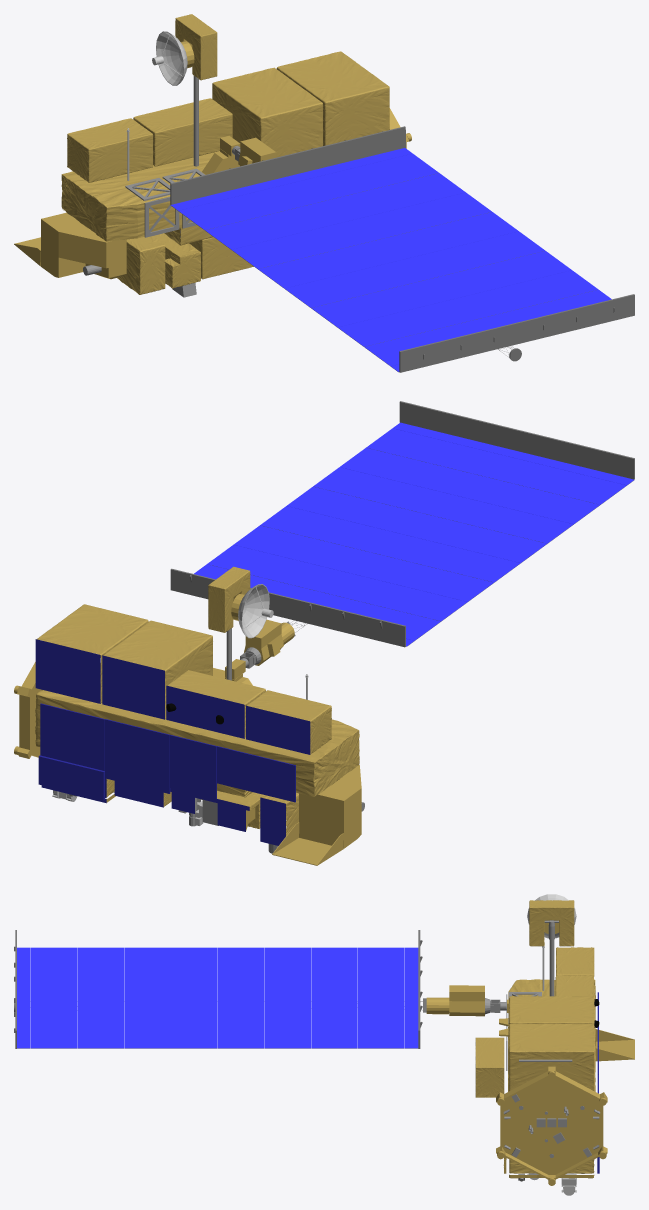
The model's file is terra-nasa.glb.
3 renders of one model, top to bottom at view 1: azimuth 30°, elevation 25°; view 2: azimuth 150°, elevation 25°; view 3: azimuth 270°, elevation 25°, orthographic. The views are drawn at different scales.
Parts seen in each view (by area): view 1: Terra_vFINAL [Layer17], Terra_vFINAL [Layer16], Terra_vFINAL [Layer1], Terra_vFINAL [Layer13], Terra_vFINAL [Layer18], Terra_vFINAL [Layer2], Terra_vFINAL [Layer11], Terra_vFINAL [Layer12], Terra_vFINAL [Layer19], Terra_vFINAL [Layer3], Terra_vFINAL [Layer9], Terra_vFINAL [Layer4] (+2 smaller); view 2: Terra_vFINAL [Layer17], Terra_vFINAL [Layer15], Terra_vFINAL [Layer16], Terra_vFINAL [Layer18], Terra_vFINAL [Layer1], Terra_vFINAL [Layer13], Terra_vFINAL [Layer2], Terra_vFINAL [Layer11], Terra_vFINAL [Layer9], Terra_vFINAL [Layer12], Terra_vFINAL [Layer20], Terra_vFINAL [Layer19]; view 3: Terra_vFINAL [Layer17], Terra_vFINAL [Layer18], Terra_vFINAL [Layer2], Terra_vFINAL [Layer13], Terra_vFINAL [Layer19], Terra_vFINAL [Layer10], Terra_vFINAL [Layer9], Terra_vFINAL [Layer16], Terra_vFINAL [Layer11], Terra_vFINAL [Layer1], Terra_vFINAL [Layer12], Terra_vFINAL [Layer21].
Part boxes in pixels (x1=…): Terra_vFINAL [Layer17]: x1=171, y1=148, x2=611, y2=371; Terra_vFINAL [Layer16]: x1=170, y1=126, x2=634, y2=372; Terra_vFINAL [Layer1]: x1=61, y1=151, x2=219, y2=245; Terra_vFINAL [Layer13]: x1=212, y1=67, x2=322, y2=157; Terra_vFINAL [Layer18]: x1=14, y1=41, x2=411, y2=279; Terra_vFINAL [Layer2]: x1=276, y1=51, x2=389, y2=145; Terra_vFINAL [Layer11]: x1=67, y1=118, x2=152, y2=182; Terra_vFINAL [Layer12]: x1=133, y1=98, x2=232, y2=166; Terra_vFINAL [Layer19]: x1=83, y1=75, x2=240, y2=297; Terra_vFINAL [Layer3]: x1=117, y1=236, x2=165, y2=294; Terra_vFINAL [Layer9]: x1=175, y1=14, x2=217, y2=80; Terra_vFINAL [Layer4]: x1=153, y1=233, x2=200, y2=288; Terra_vFINAL [Layer17]: x1=194, y1=422, x2=634, y2=646; Terra_vFINAL [Layer15]: x1=35, y1=639, x2=310, y2=845; Terra_vFINAL [Layer16]: x1=170, y1=401, x2=634, y2=647; Terra_vFINAL [Layer18]: x1=14, y1=593, x2=361, y2=865; Terra_vFINAL [Layer1]: x1=35, y1=673, x2=359, y2=797; Terra_vFINAL [Layer13]: x1=103, y1=620, x2=212, y2=718; Terra_vFINAL [Layer2]: x1=37, y1=604, x2=148, y2=702; Terra_vFINAL [Layer11]: x1=247, y1=690, x2=331, y2=754; Terra_vFINAL [Layer9]: x1=208, y1=566, x2=250, y2=632; Terra_vFINAL [Layer12]: x1=167, y1=670, x2=265, y2=737; Terra_vFINAL [Layer20]: x1=238, y1=584, x2=273, y2=638; Terra_vFINAL [Layer19]: x1=69, y1=628, x2=364, y2=853; Terra_vFINAL [Layer17]: x1=17, y1=947, x2=418, y2=1048; Terra_vFINAL [Layer18]: x1=426, y1=920, x2=634, y2=1185; Terra_vFINAL [Layer2]: x1=509, y1=1024, x2=594, y2=1091; Terra_vFINAL [Layer13]: x1=509, y1=996, x2=594, y2=1025; Terra_vFINAL [Layer19]: x1=485, y1=920, x2=600, y2=1181; Terra_vFINAL [Layer10]: x1=475, y1=1037, x2=504, y2=1097; Terra_vFINAL [Layer9]: x1=529, y1=900, x2=574, y2=946; Terra_vFINAL [Layer16]: x1=14, y1=930, x2=426, y2=1048; Terra_vFINAL [Layer11]: x1=556, y1=947, x2=594, y2=995; Terra_vFINAL [Layer1]: x1=508, y1=979, x2=595, y2=1091; Terra_vFINAL [Layer12]: x1=555, y1=975, x2=593, y2=996; Terra_vFINAL [Layer21]: x1=527, y1=946, x2=576, y2=1195.
Size of the model in its own units: 13622 by 10277 by 26054.
